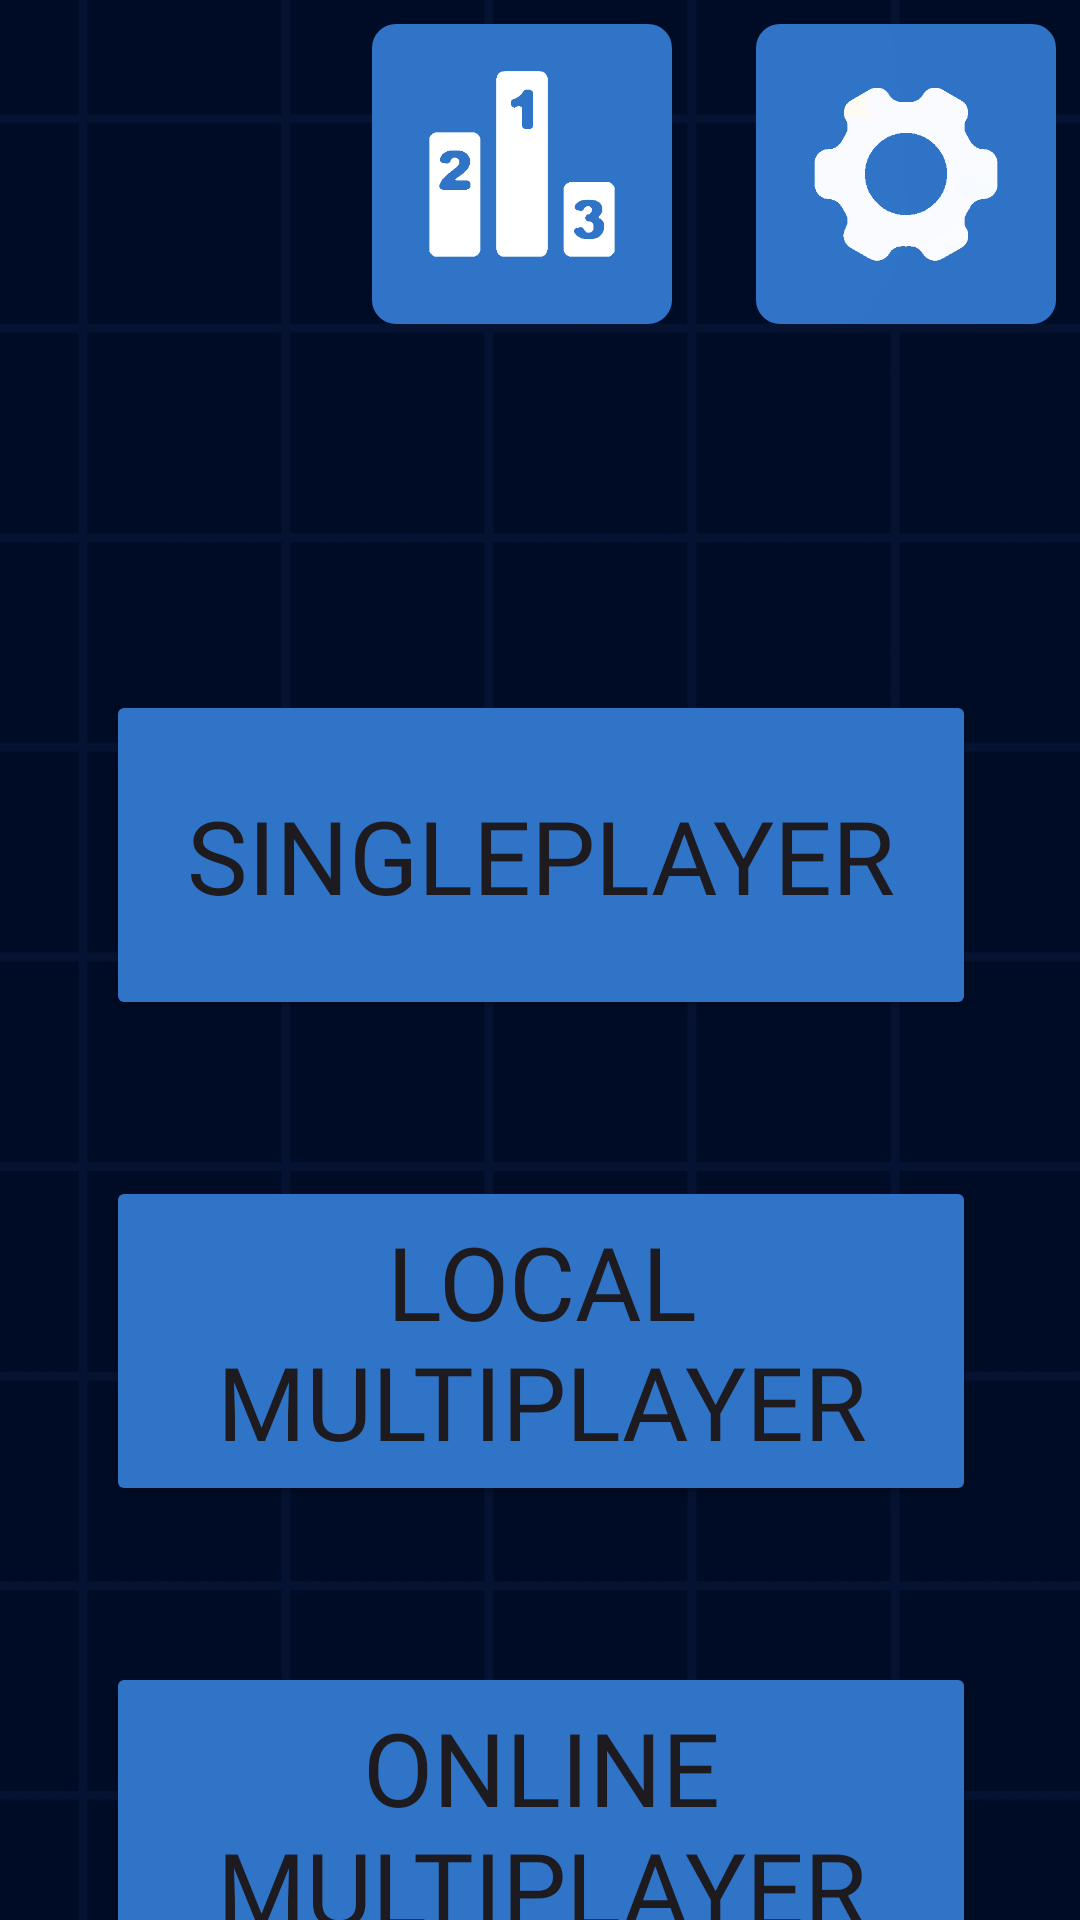

Named icons in this screenshot (1080w x 1920h) and their bounding boxes, {"left": x1, "top": y1, "right": x2, "bottom": y2}:
leaderboard: {"left": 372, "top": 24, "right": 672, "bottom": 324}
settings: {"left": 756, "top": 24, "right": 1056, "bottom": 324}
